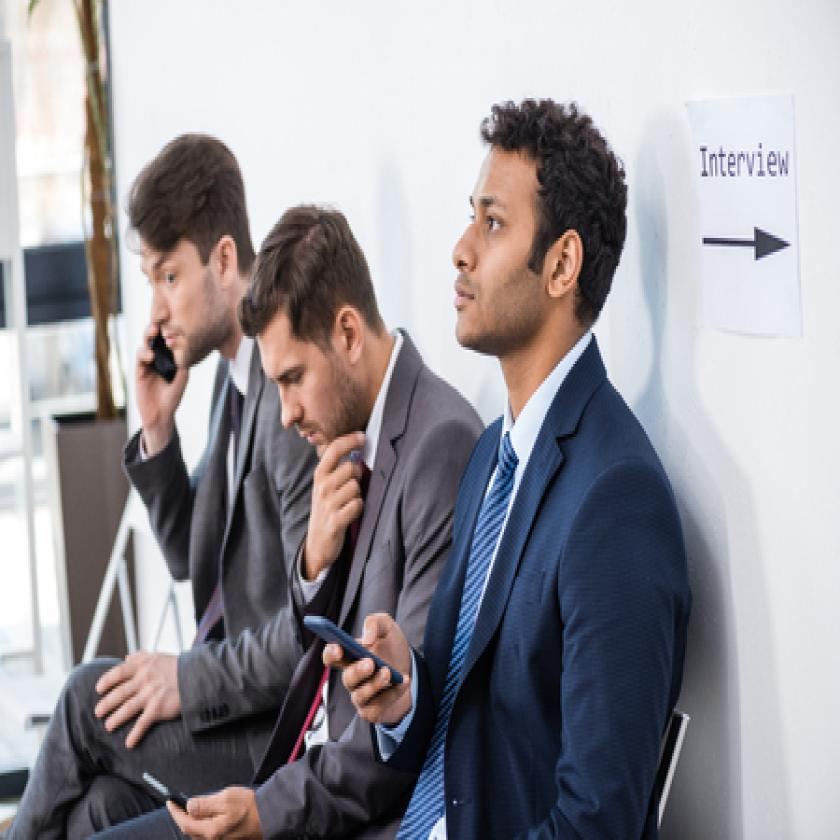Sin_casco: (448, 86, 630, 368), (238, 191, 386, 463), (129, 107, 255, 370)
